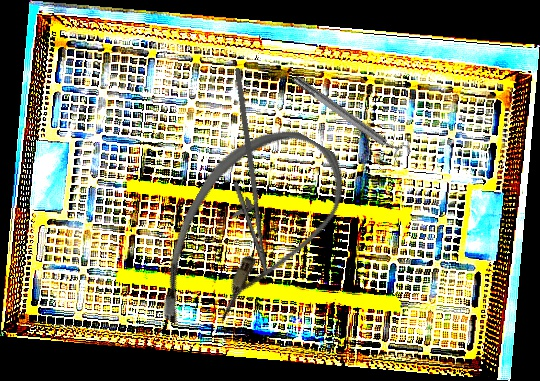Cannula: (135, 104, 362, 366)
Fixation Ring: (288, 68, 414, 168)
Needle Holder: (195, 67, 293, 277)
